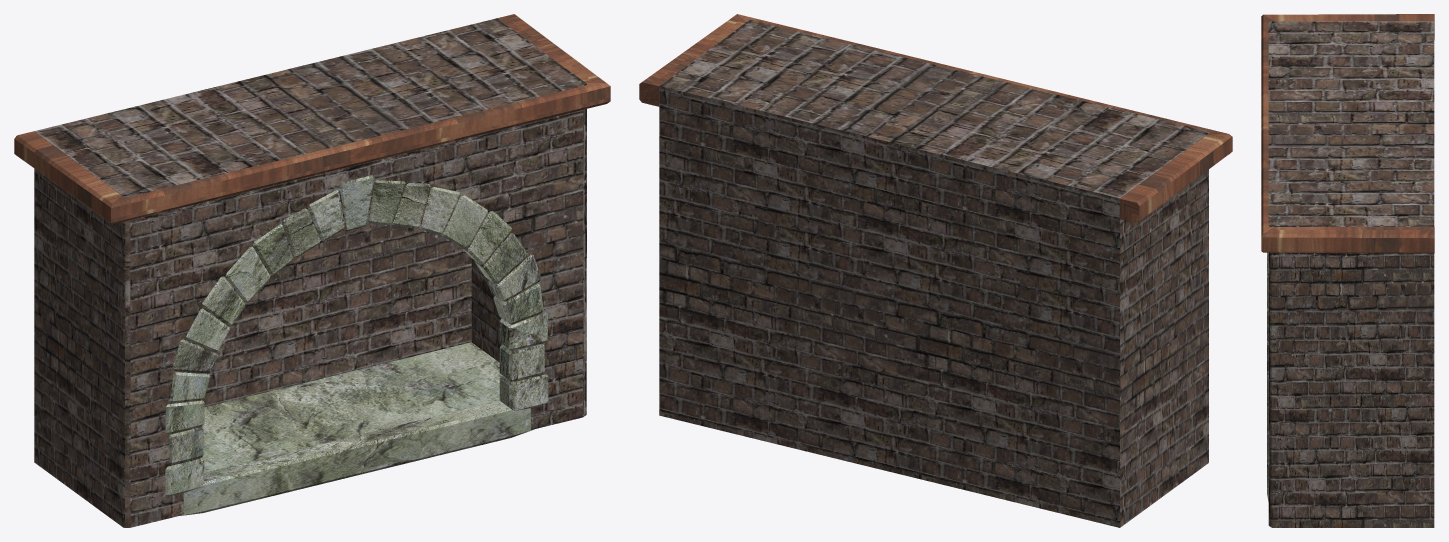
File: bake.fbx
The picture shows the model from 3 angles, left to right: view 1: azimuth 30°, elevation 25°; view 2: azimuth 150°, elevation 25°; view 3: azimuth 270°, elevation 25°; orthographic projection. The views are drawn at different scales.
Visible parts, largest first — view 1: Cube; view 2: Cube; view 3: Cube.
Part boxes in pixels (x1,y1,x2,y2): Cube: (14,14,610,527); Cube: (639,14,1232,527); Cube: (1261,14,1434,527).
Bounding box in the file's own units: 255 × 162 × 83.52.
